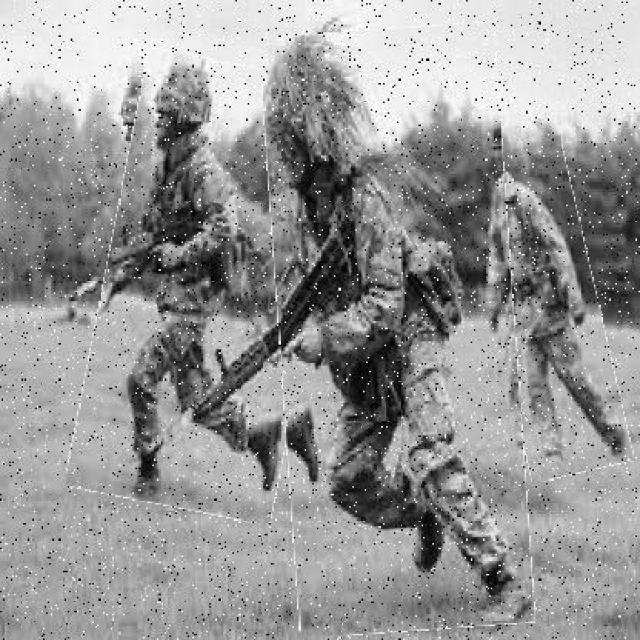Person: (272, 27, 527, 635), (86, 56, 335, 518), (473, 121, 615, 481)
